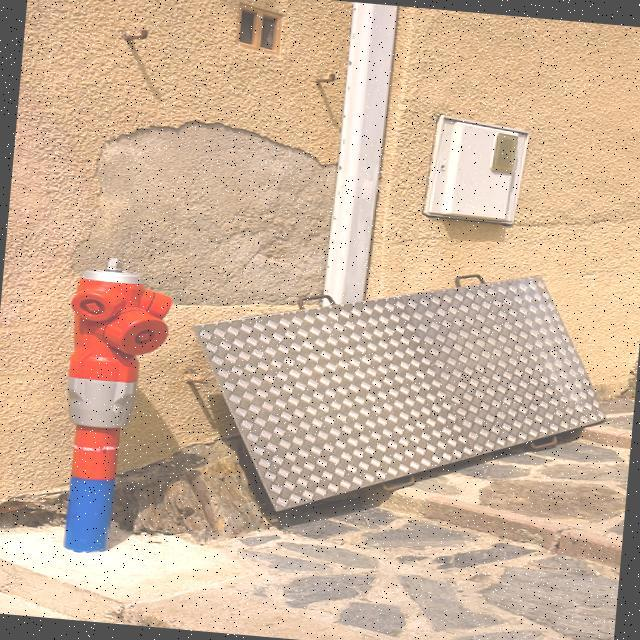fire_hydrant: (52, 255, 182, 560)
